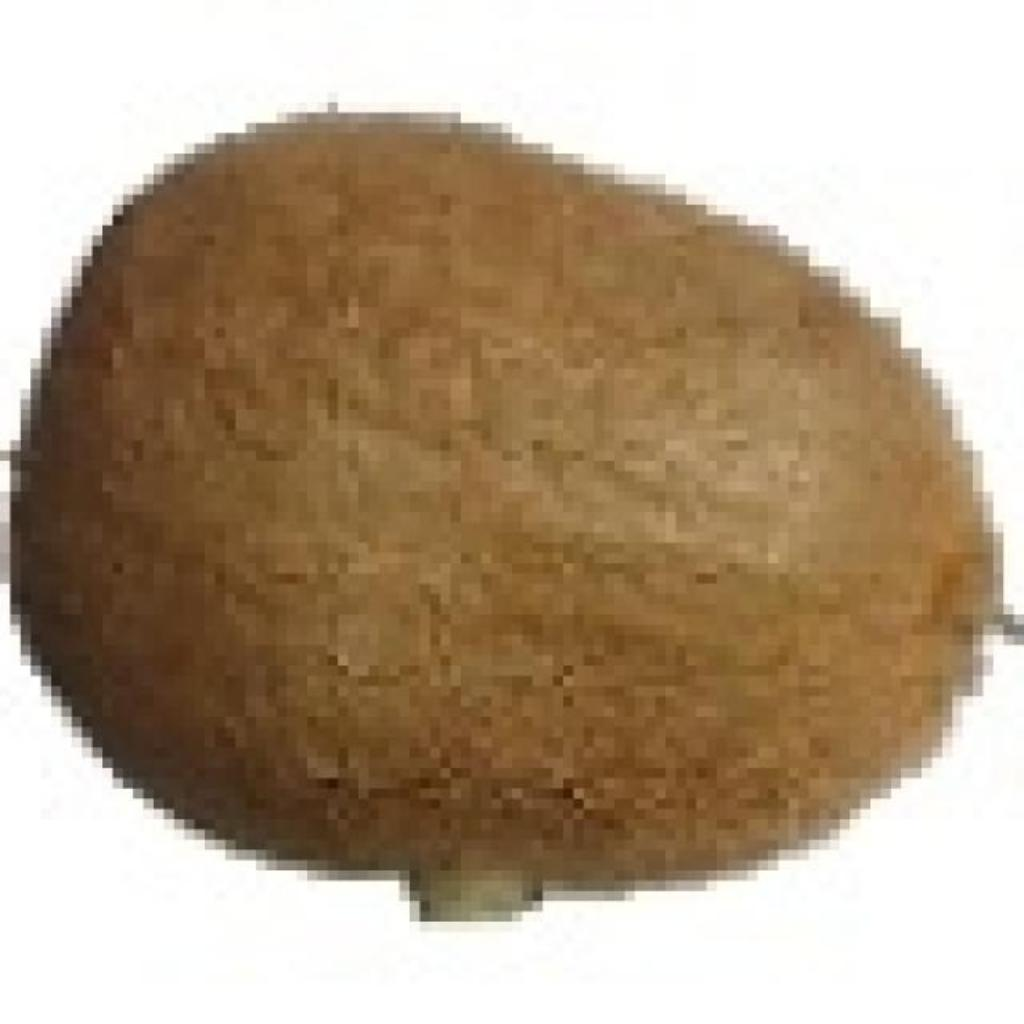kiwi: (31, 102, 1004, 891)
